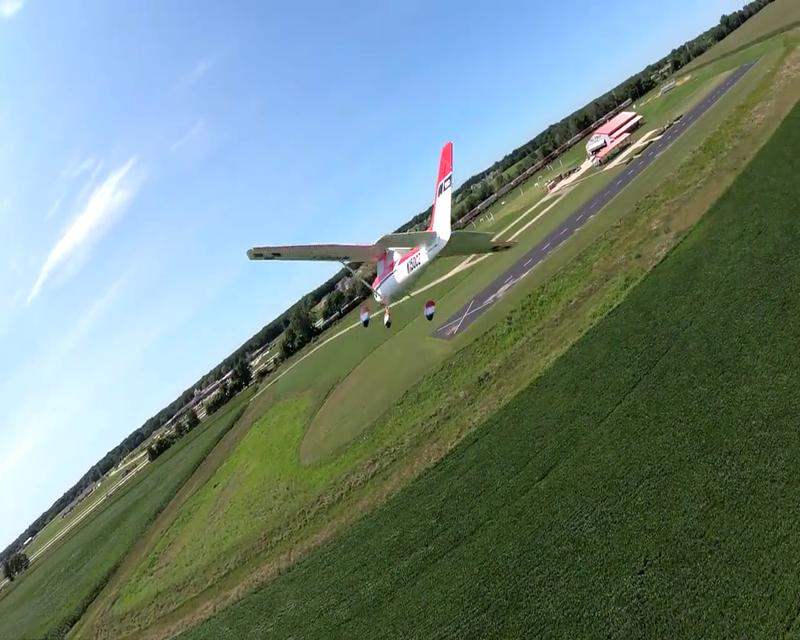UAV: (245, 140, 520, 328)
